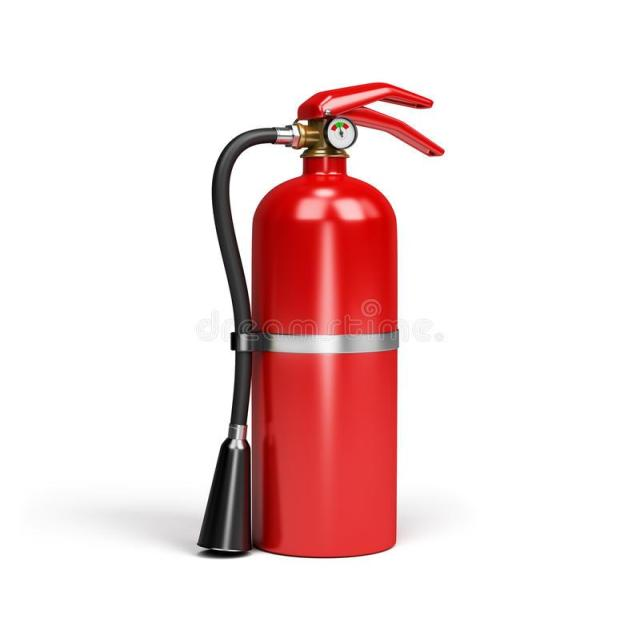fire_extinguisher: (186, 76, 452, 561)
